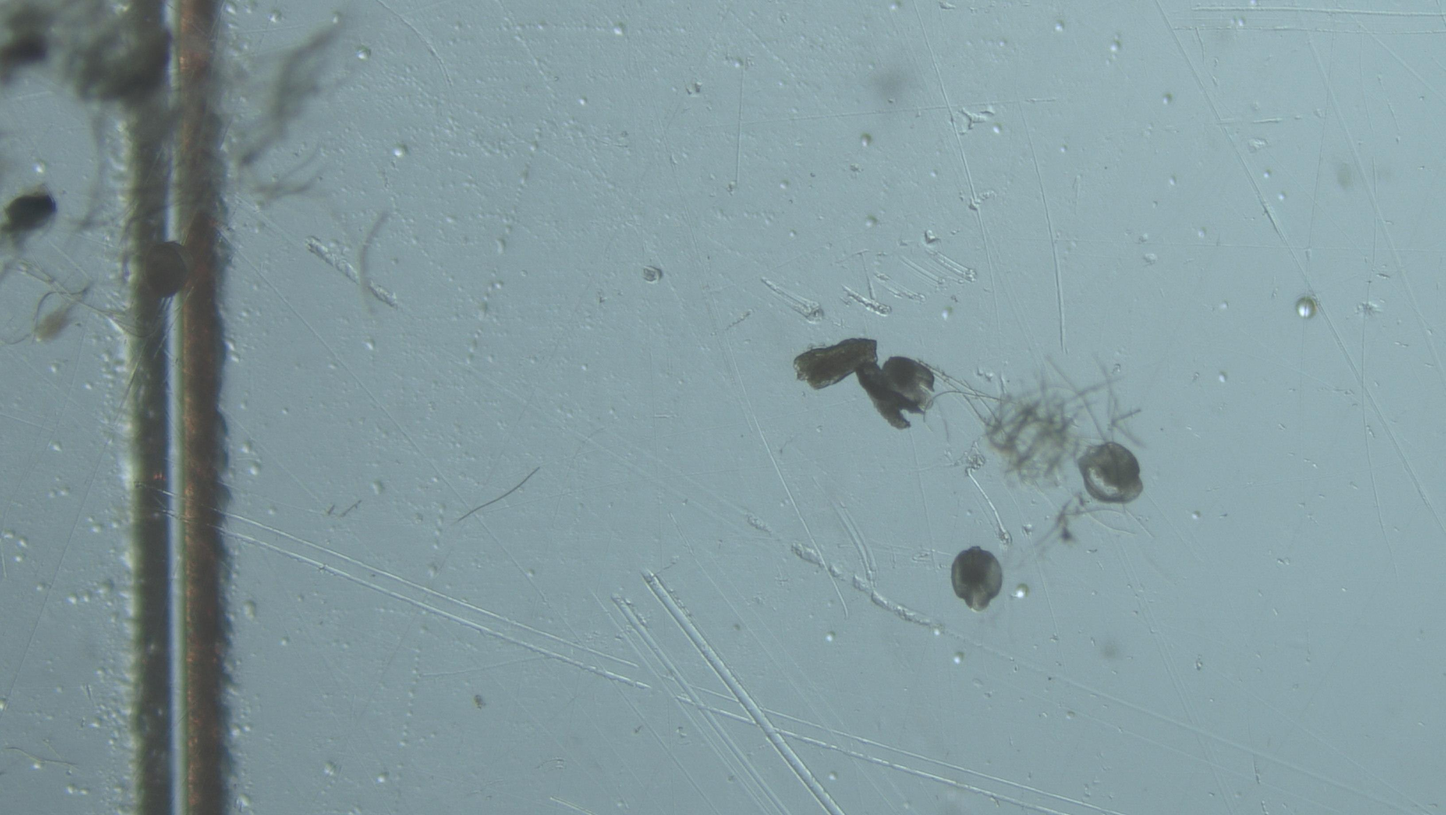live: (1078, 442, 1144, 504), (951, 547, 1003, 612), (148, 241, 188, 300)
